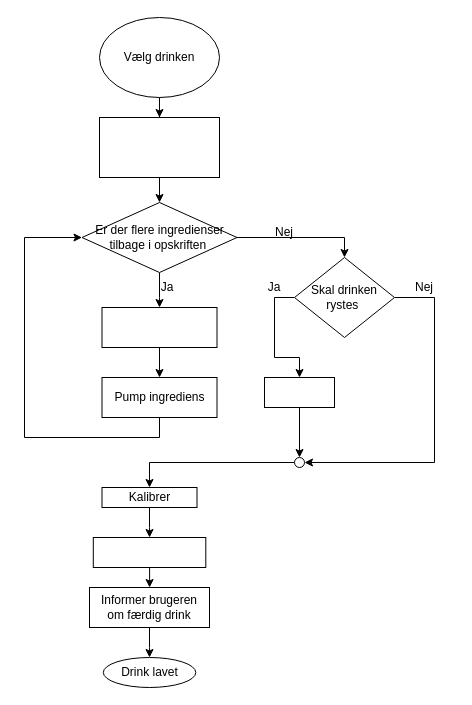
The diagram is 472 pixels wide and 705 high, and some of its shapes have lost their labels. The shapes that lost their labels are listed below. From the top down, each one's centre as x and y in pixels, then its label:
At (159,147): "Informer brugeren om valget".
At (159,327): "Flyt kop til ny ingrediens".
At (299,392): "Ryst".
At (149,552): "Flyt kop tilbage til start".
